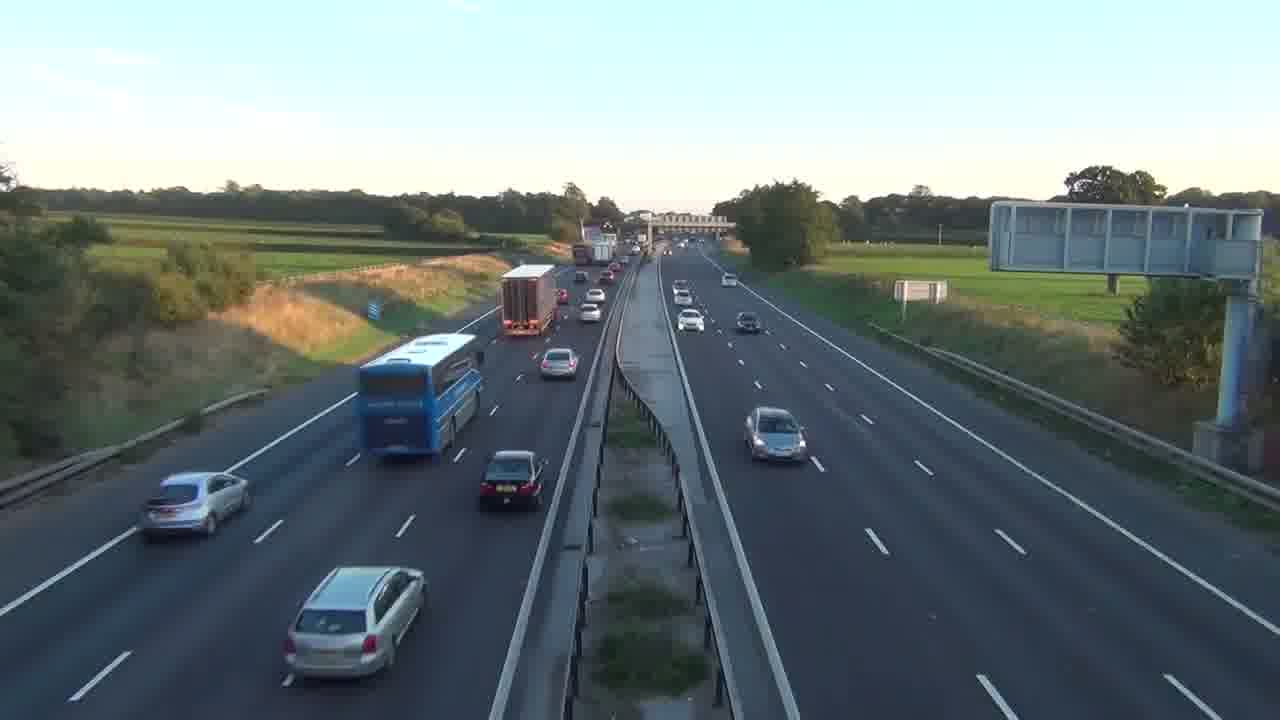bus: (356, 331, 484, 460), (499, 263, 561, 339)
car: (279, 564, 429, 684), (139, 469, 253, 539), (744, 405, 809, 464), (535, 347, 580, 380), (677, 307, 705, 333), (735, 311, 760, 333)
truck: (499, 263, 561, 339)
